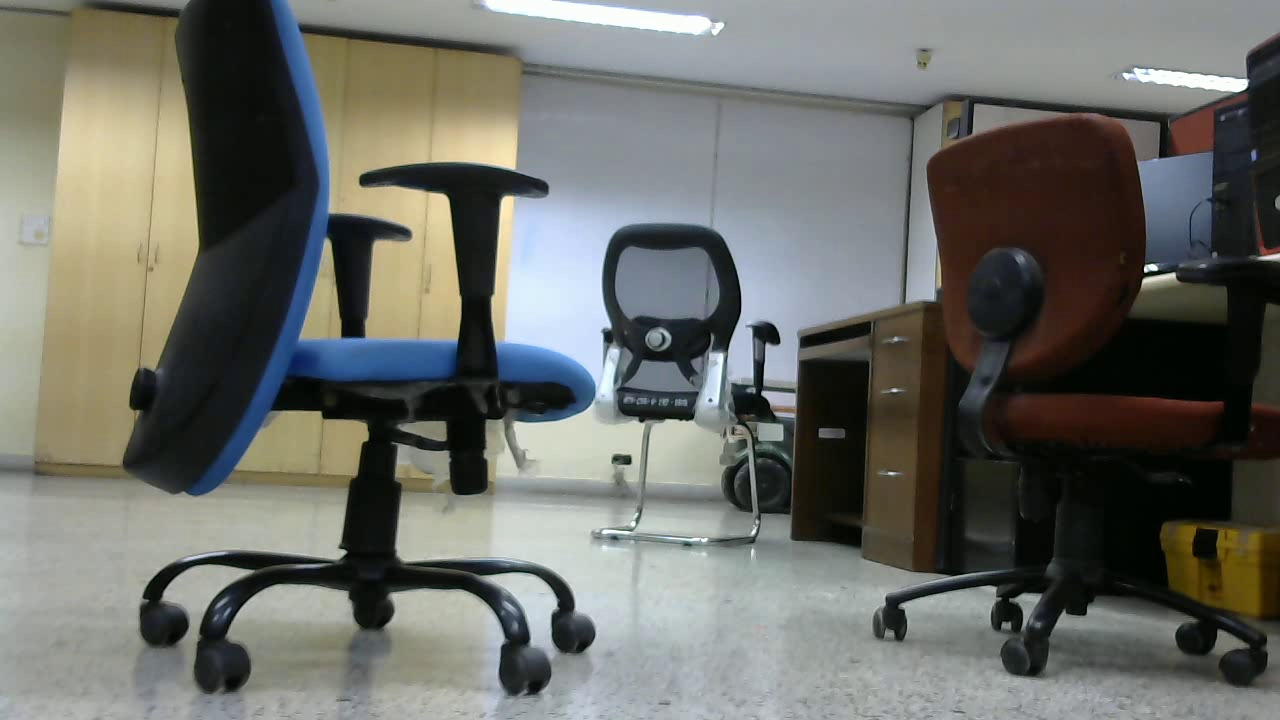chair: (108, 1, 597, 697), (873, 113, 1279, 685), (592, 217, 777, 553)
